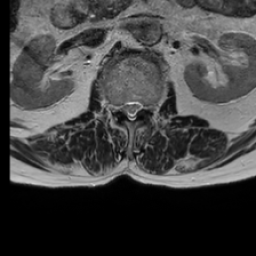CCS_normal: (127, 93, 134, 127)
LFS_stenosis: (142, 94, 149, 117)
LLS_normal: (134, 92, 142, 116)
RFS_stenosis: (113, 96, 121, 118)
RLS_normal: (121, 94, 127, 119)
